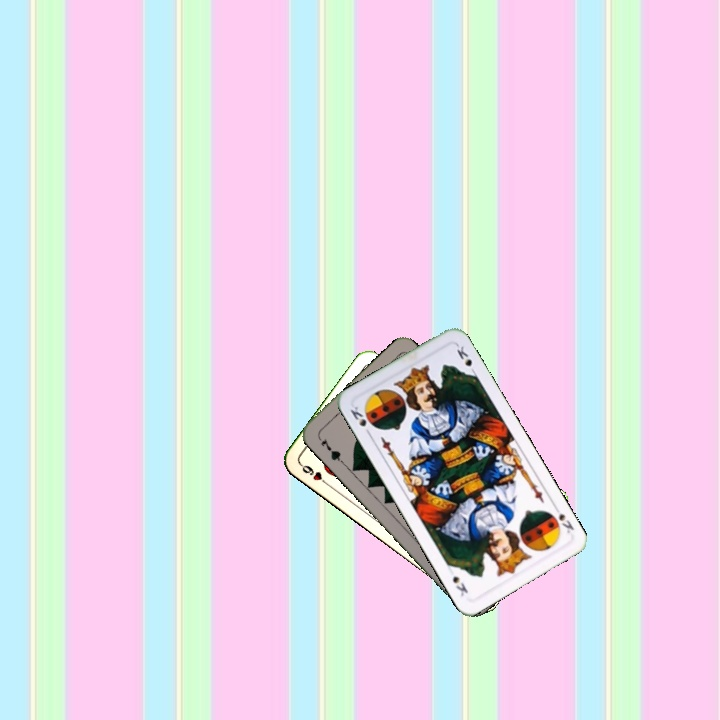G7: (314, 432, 346, 465)
H9: (296, 459, 331, 488)
SK: (346, 402, 374, 439), (549, 501, 577, 536)
